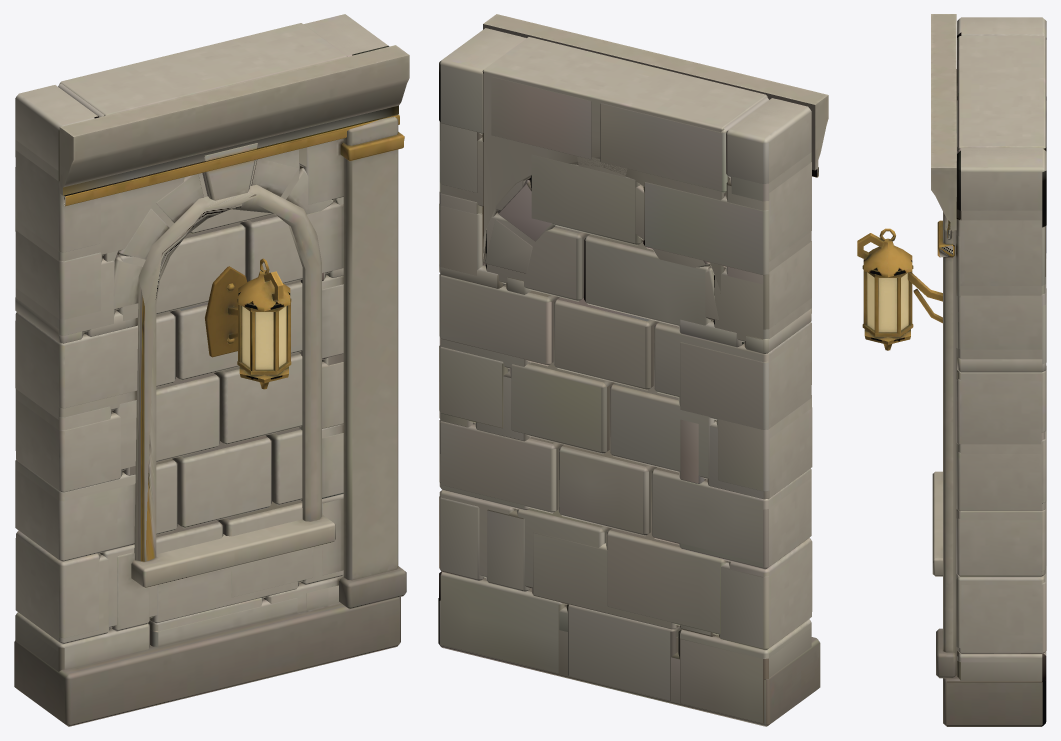
Rendered from env-glass-town.low.glb.
3 views of the same model, side by side, from view 1: azimuth 30°, elevation 25°; view 2: azimuth 150°, elevation 25°; view 3: azimuth 270°, elevation 25° (orthographic). The views are drawn at different scales.
Visible parts, largest first — view 1: glass-window, glass-wall, glass-sconce; view 2: glass-wall, glass-window; view 3: glass-window, glass-wall, glass-sconce.
Boxes of the visible parts, <box> form: glass-window: <box>14,14,409,726</box>; glass-wall: <box>15,14,408,726</box>; glass-sconce: <box>205,258,291,389</box>; glass-wall: <box>438,14,828,726</box>; glass-window: <box>438,14,828,725</box>; glass-window: <box>931,14,1046,725</box>; glass-wall: <box>931,14,1046,726</box>; glass-sconce: <box>857,228,942,350</box>.
Size of the model in its own units: 1.07 by 1.8 by 0.5509.
5 materials, 5 textured.
